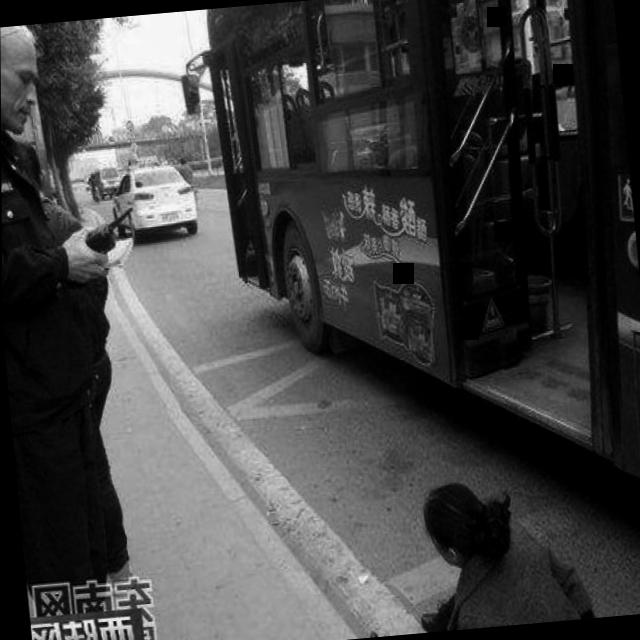Fall-Detected: (338, 450, 635, 638)
